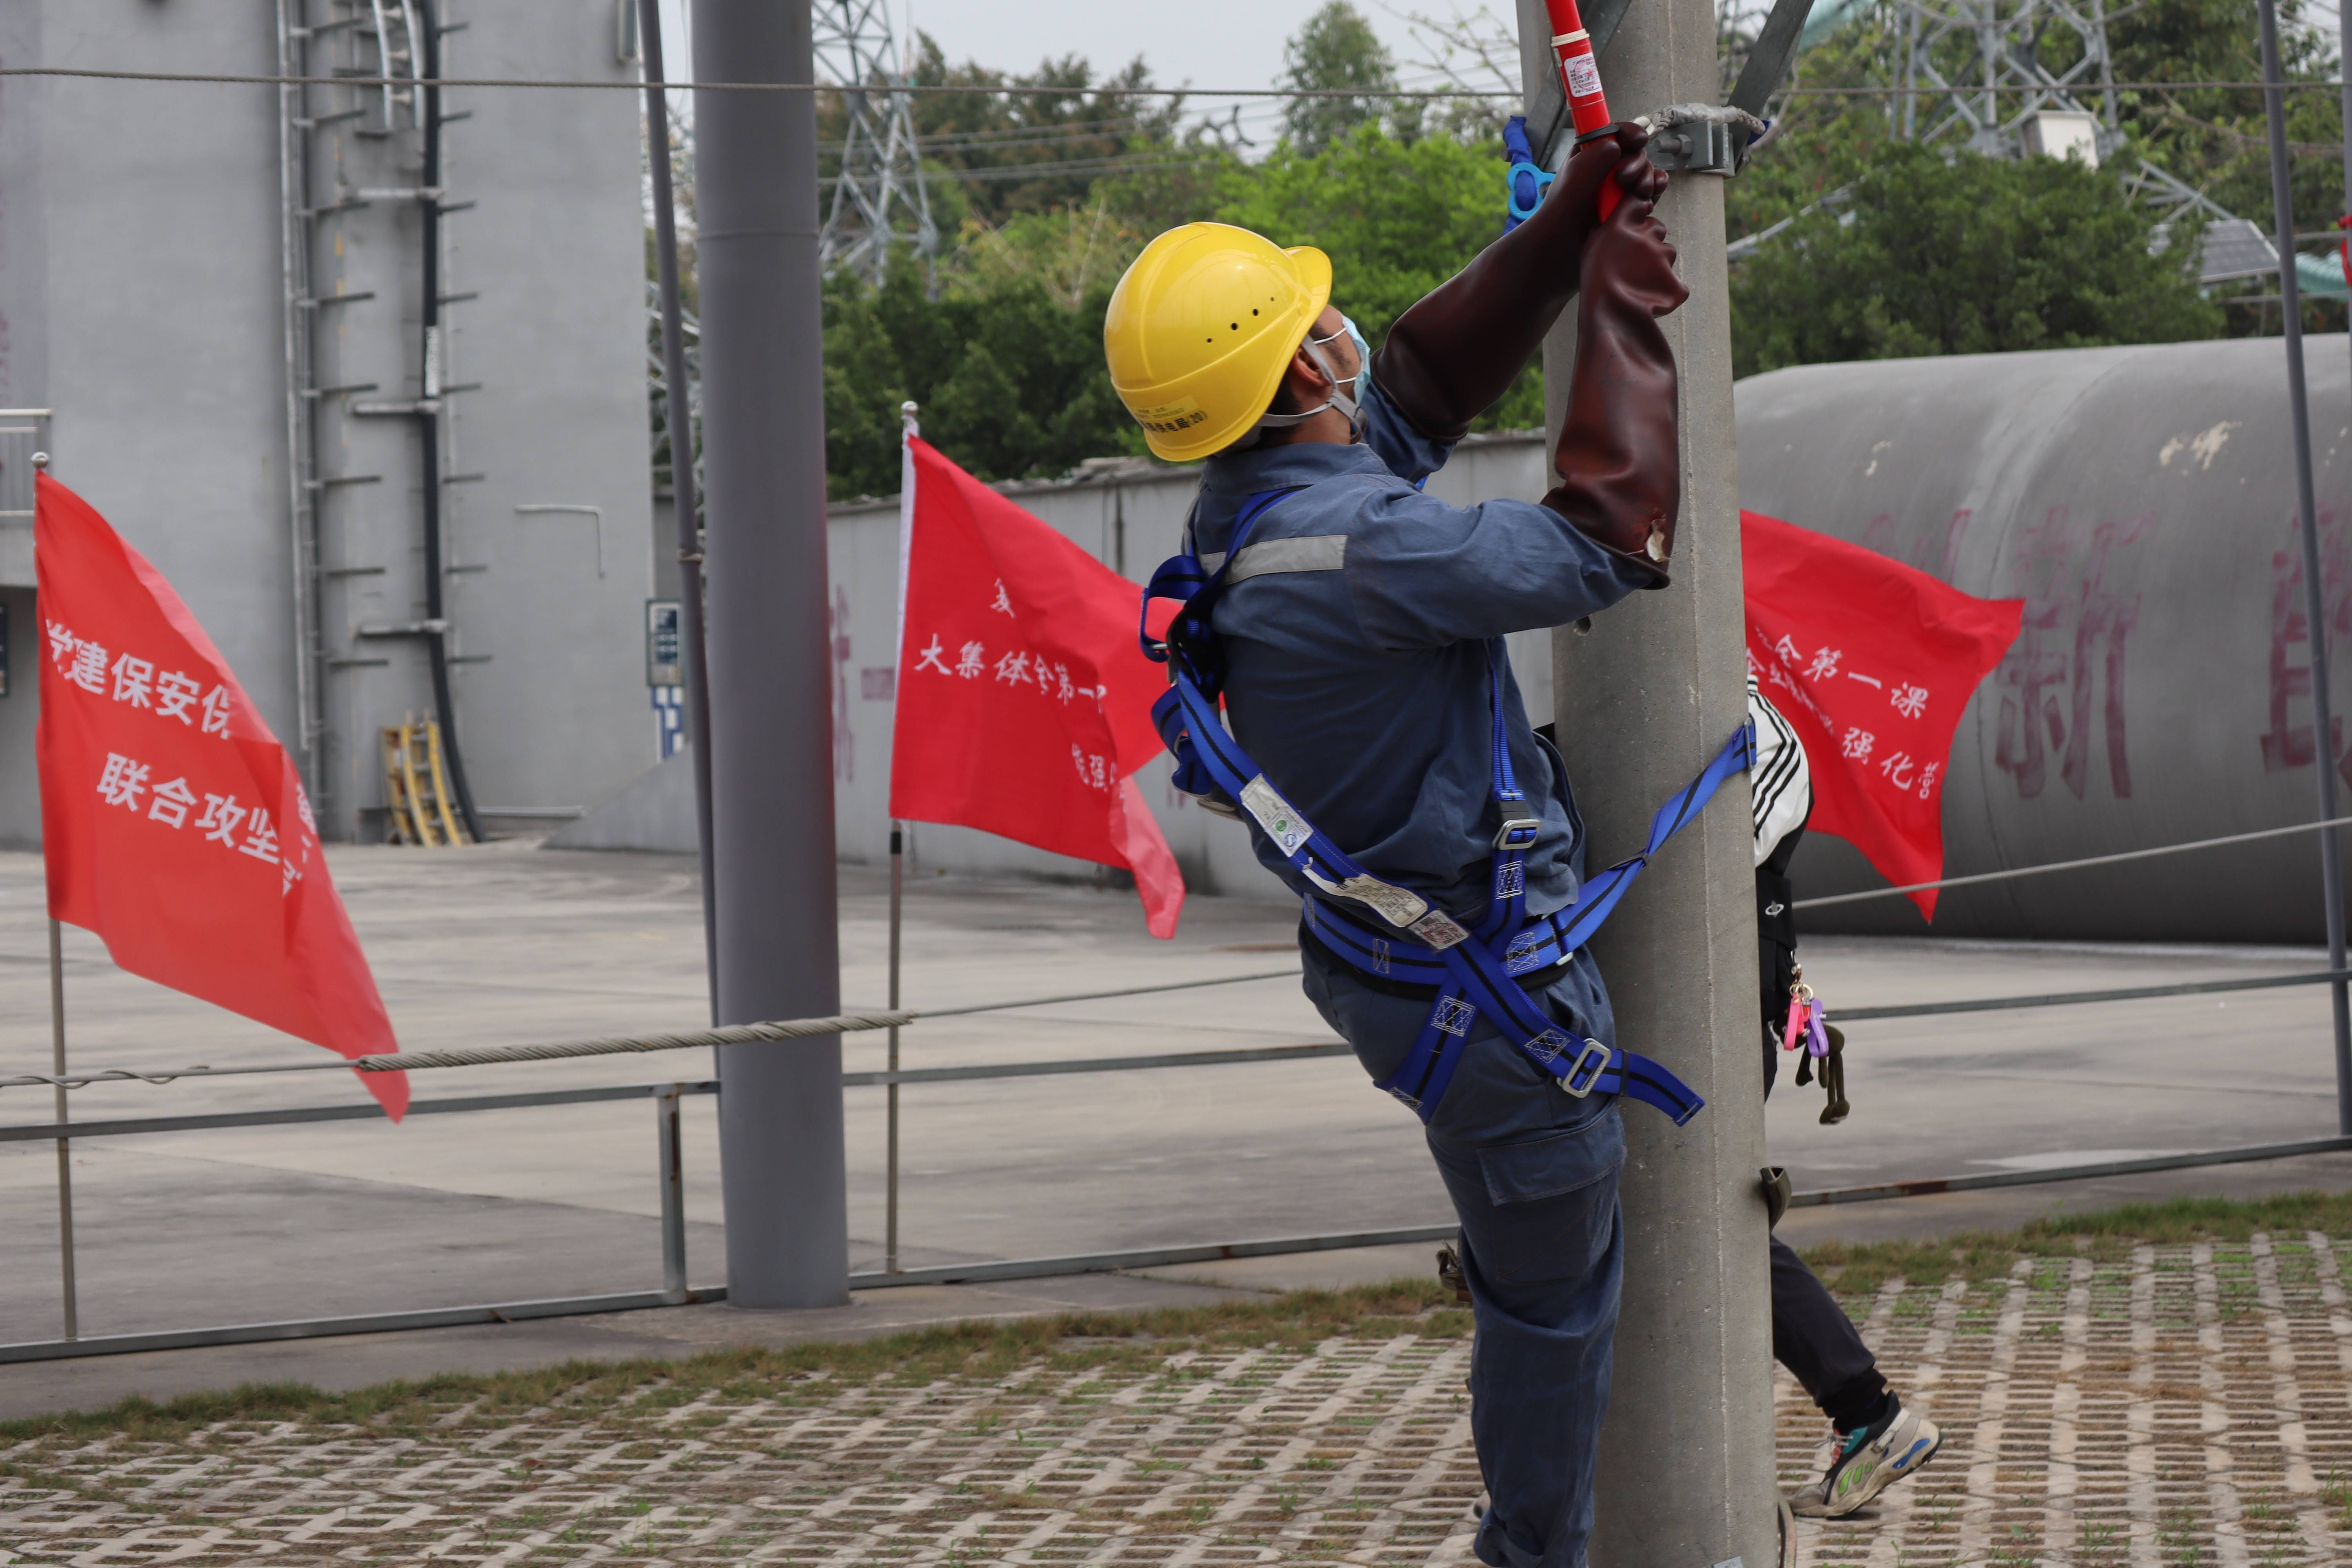downsuit: (1309, 955, 1670, 1557)
upsuit: (1185, 427, 1678, 945)
